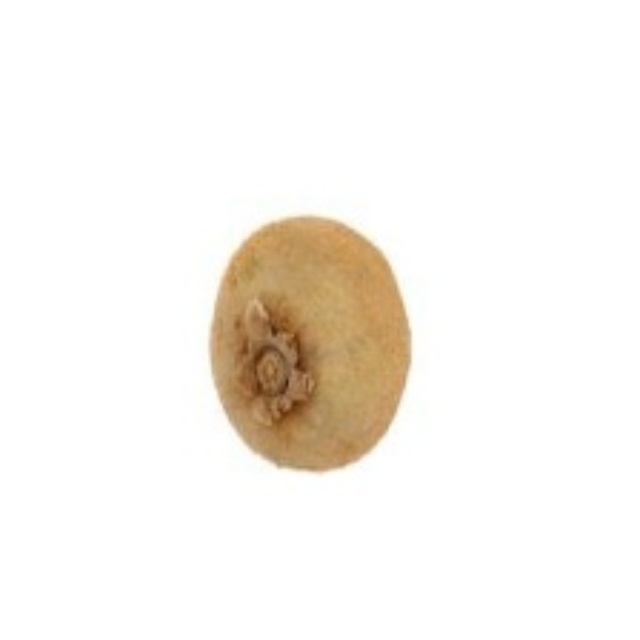kiwi: (206, 213, 415, 473)
